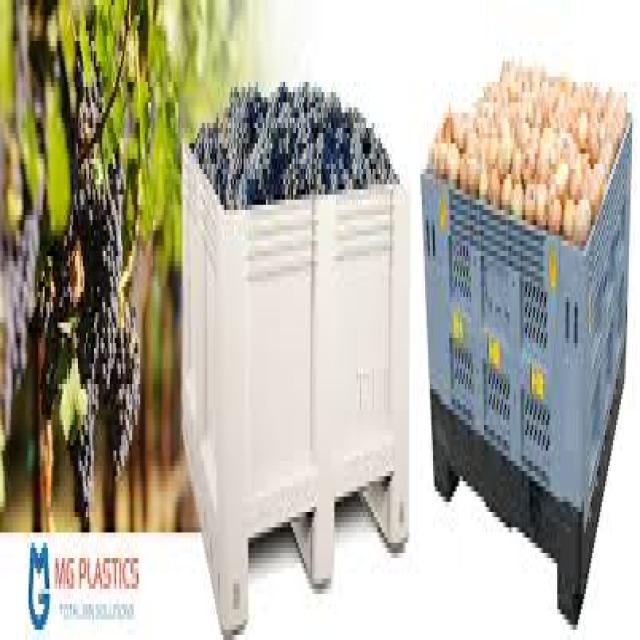basket: (183, 148, 409, 633)
